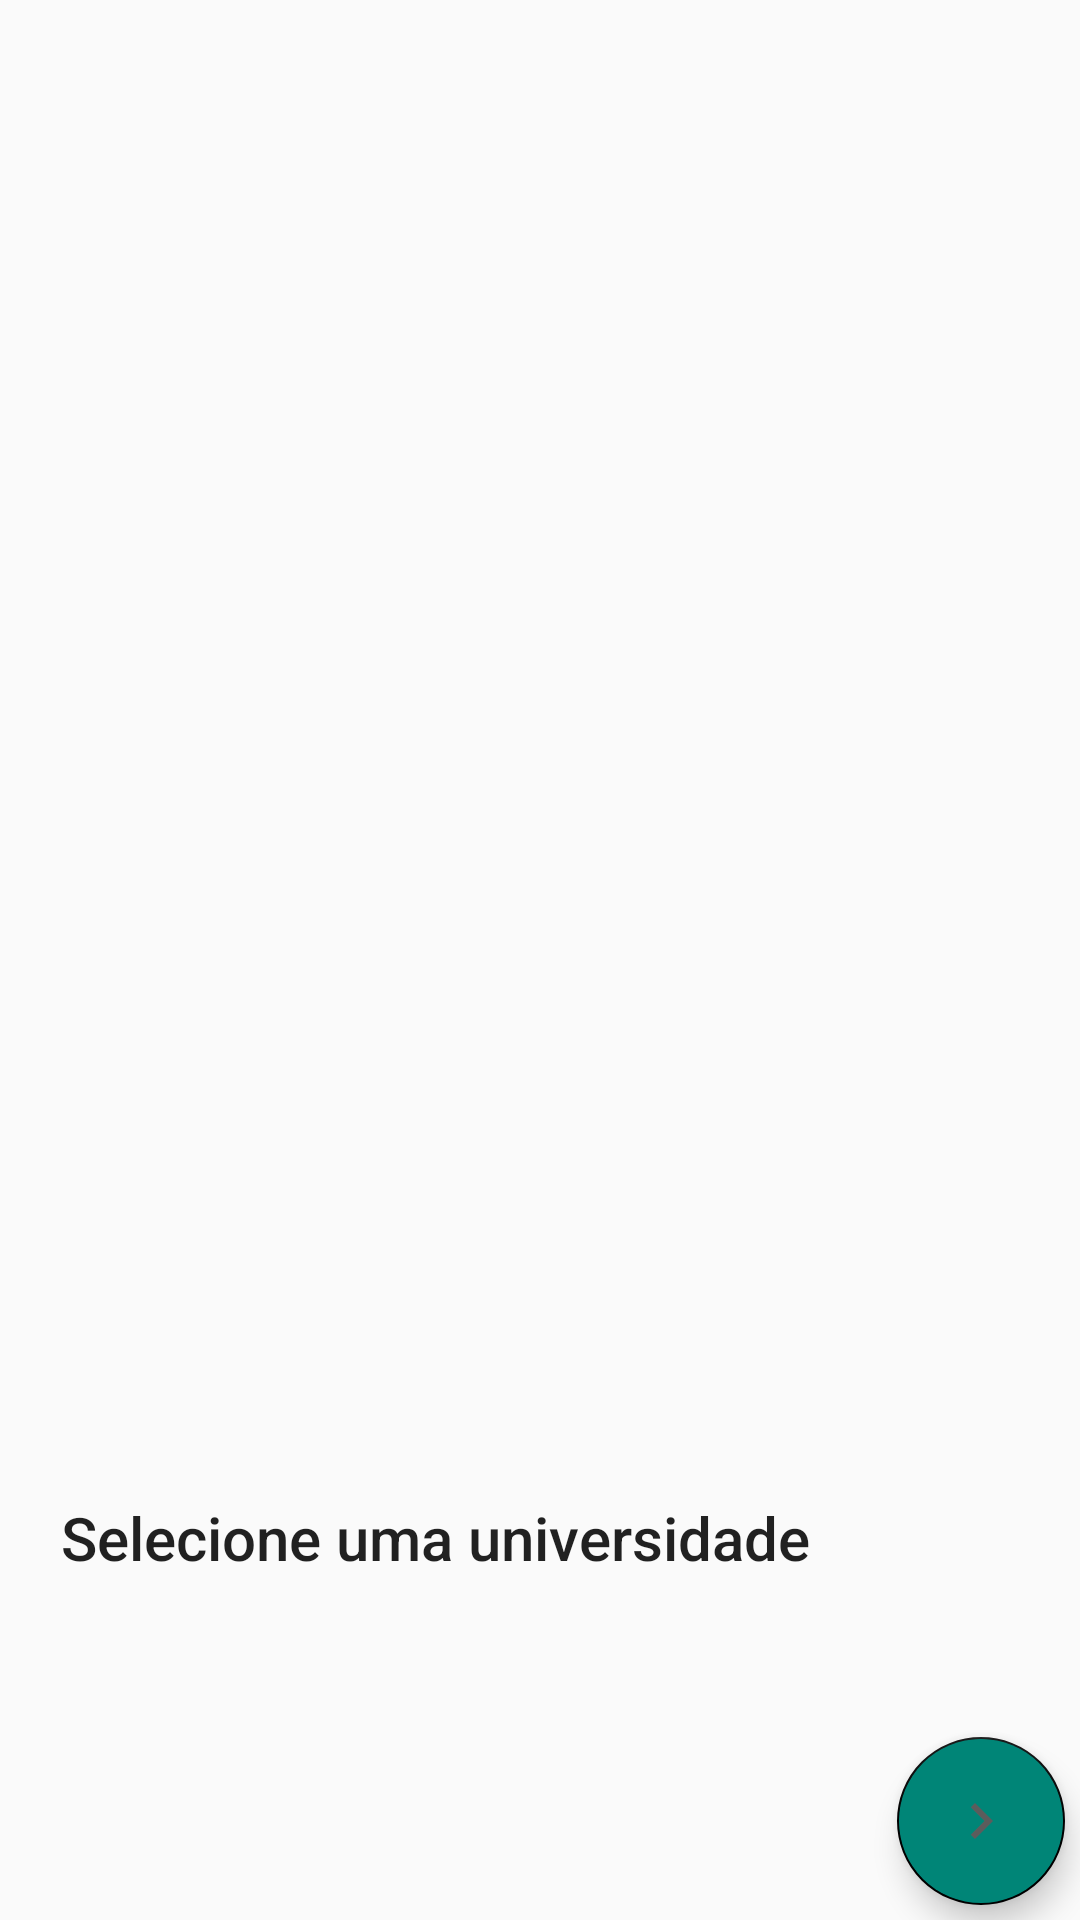

Icon click points for this 1080w x 1920h phone screenshot, format (x=x, y=y):
chevron right: (x=981, y=1821)
